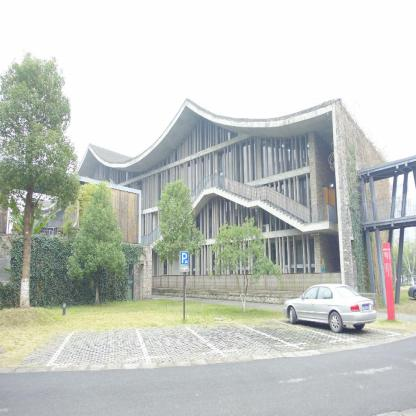Car: (286, 282, 376, 333), (407, 284, 416, 300)
